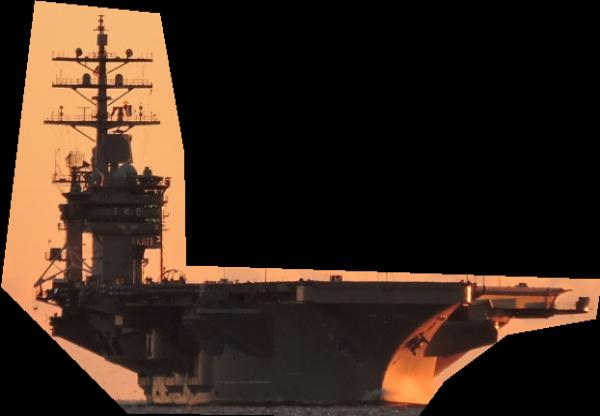Aircraft Carrier: (1, 0, 600, 416)
